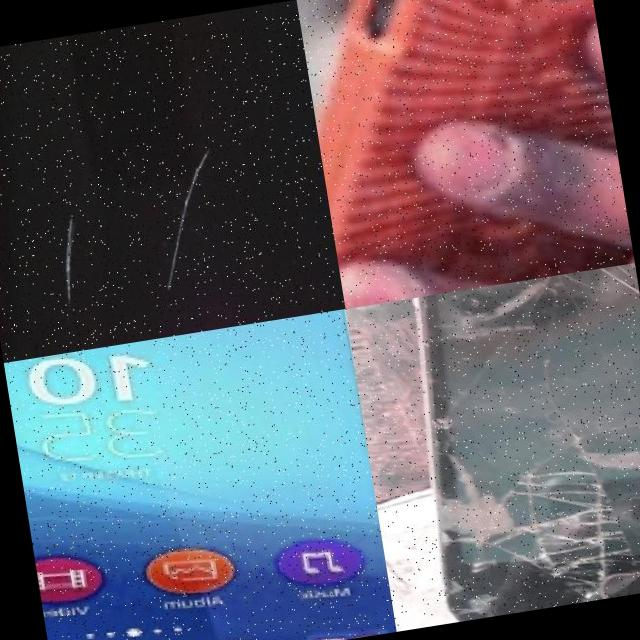scratch: (139, 142, 239, 308), (51, 223, 87, 311)
screen crack: (386, 263, 640, 625)
